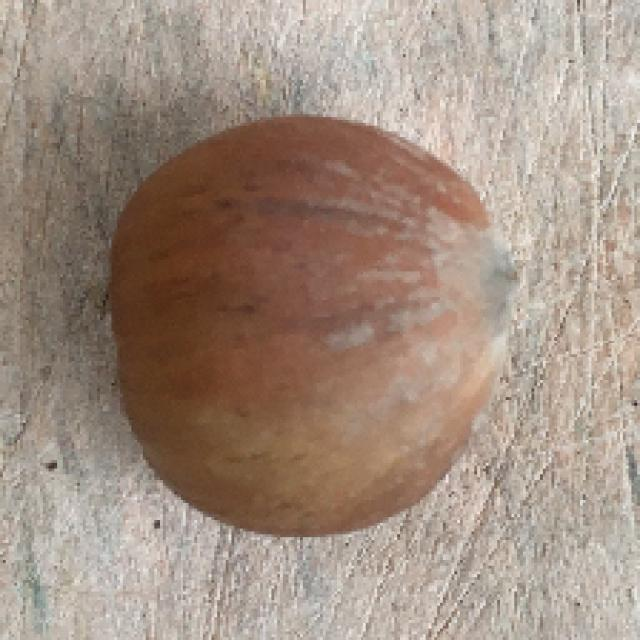qualityHazelnut: (101, 108, 521, 538)
